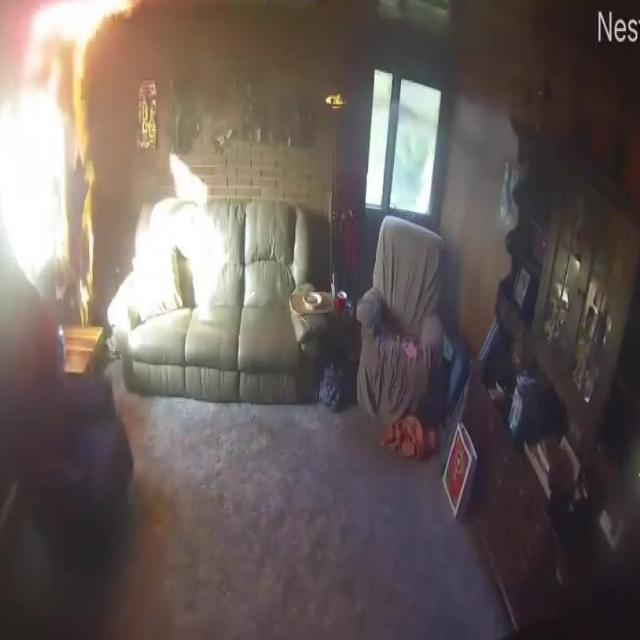smoke: (19, 0, 133, 67), (69, 73, 96, 317)
